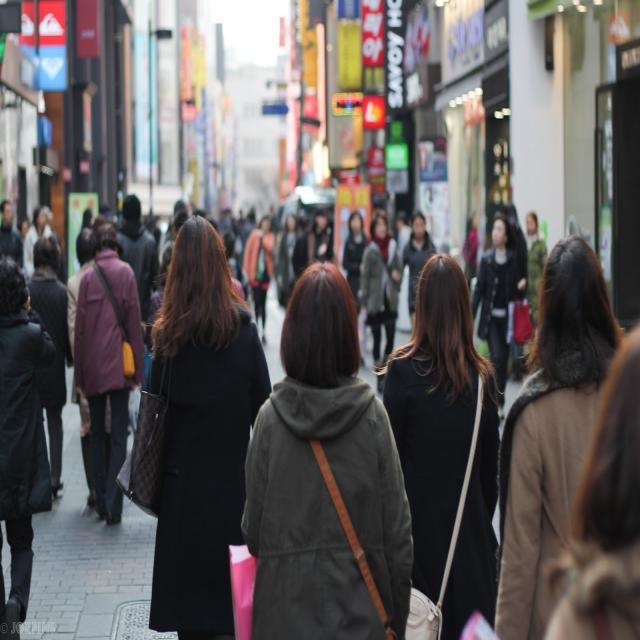body: (239, 260, 415, 639), (131, 213, 274, 640), (503, 235, 628, 640), (381, 251, 500, 639), (4, 178, 337, 312), (526, 316, 639, 640), (71, 218, 151, 531), (0, 264, 66, 639), (470, 212, 530, 418), (27, 237, 73, 500), (359, 215, 403, 395), (390, 212, 438, 346), (116, 193, 157, 325), (242, 210, 278, 346), (503, 202, 529, 383), (382, 205, 412, 328), (342, 210, 370, 318), (291, 208, 332, 280), (523, 212, 548, 329), (276, 212, 300, 312), (22, 206, 54, 280), (459, 217, 485, 306), (0, 198, 24, 268)
